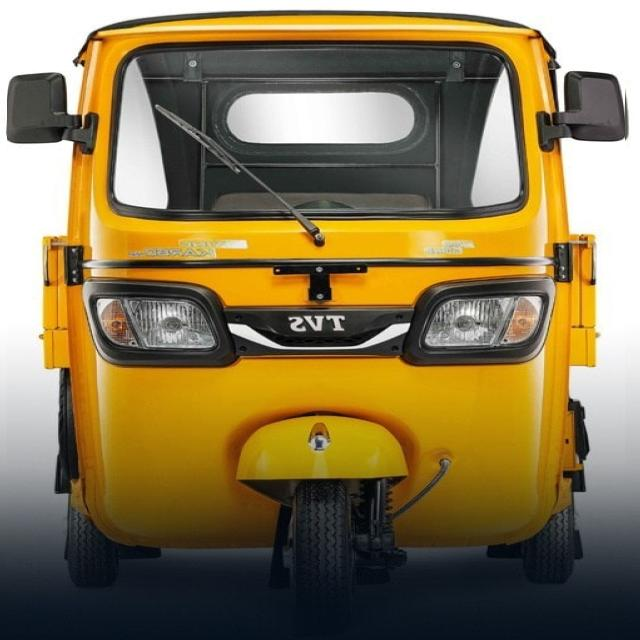autorickshaw: (8, 13, 625, 634)
